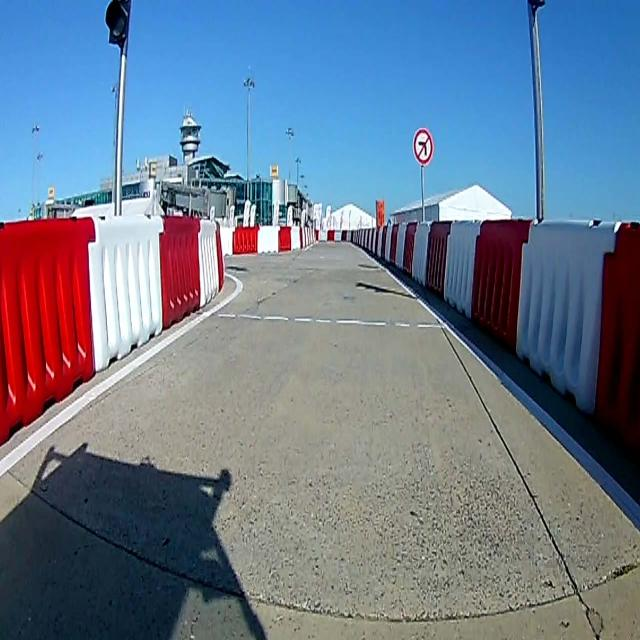soladonulmez: (413, 129, 432, 164)
